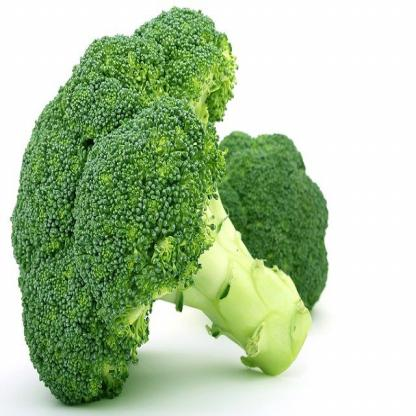broccoli: (10, 12, 308, 403)
